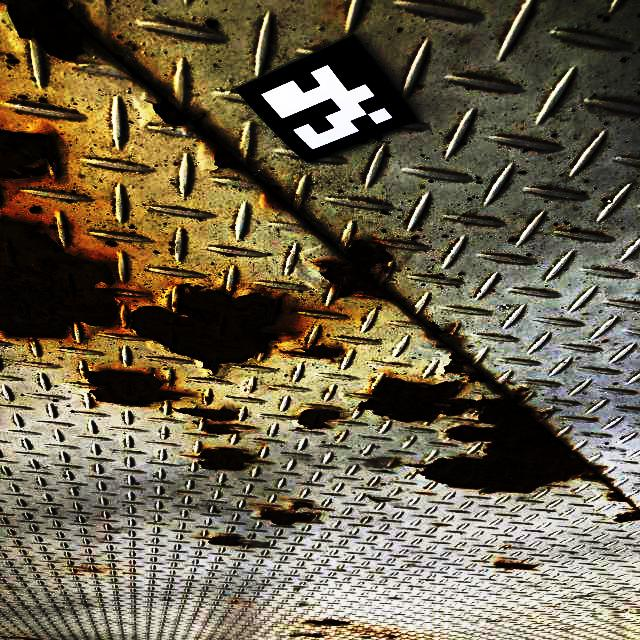Corrosion: (360, 378, 608, 493), (0, 220, 117, 338), (131, 285, 282, 372), (316, 240, 394, 300), (7, 0, 84, 60), (87, 371, 186, 406), (0, 130, 58, 178), (262, 502, 317, 526), (446, 353, 491, 382), (199, 449, 254, 471), (153, 98, 188, 125), (281, 345, 342, 360), (174, 408, 237, 422), (298, 409, 340, 429), (215, 145, 243, 170), (428, 324, 456, 343), (206, 425, 254, 435), (495, 562, 536, 570), (209, 537, 243, 546), (613, 512, 640, 523), (301, 620, 350, 626), (512, 387, 530, 403), (608, 492, 630, 502), (436, 342, 455, 352)
